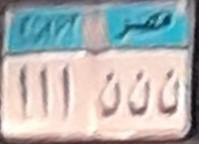1: (35, 62, 59, 115), (60, 58, 78, 117), (18, 62, 36, 118)
ن: (156, 66, 188, 115), (125, 66, 155, 113), (98, 69, 128, 113)
